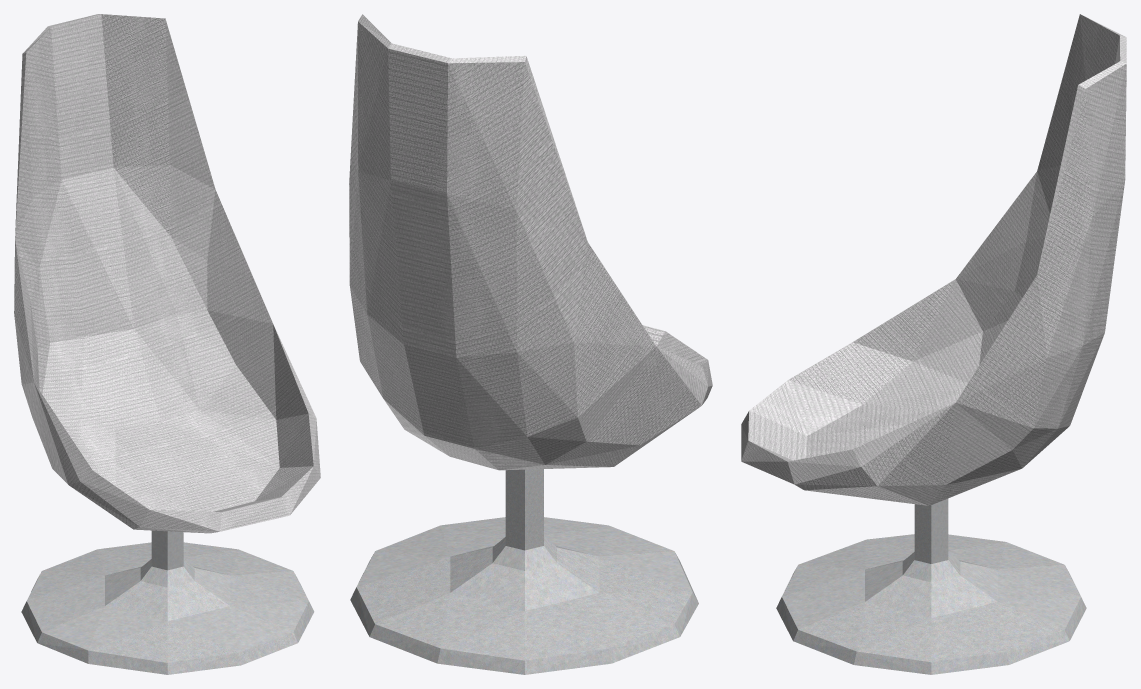
The model's file is frn_all_mdrn_chair_s01_l0.fbx.
The picture shows the model from 3 angles, left to right: view 1: azimuth 30°, elevation 25°; view 2: azimuth 150°, elevation 25°; view 3: azimuth 270°, elevation 25°; orthographic projection. The views are drawn at different scales.
Visible parts, largest first — view 1: mesh_node; view 2: mesh_node; view 3: mesh_node.
Part boxes in pixels (x1=…): mesh_node: x1=14, y1=14, x2=320, y2=674; mesh_node: x1=349, y1=14, x2=712, y2=674; mesh_node: x1=741, y1=14, x2=1126, y2=674.
Bounding box in the file's own units: 0.7289 × 1.41 × 0.8801.
